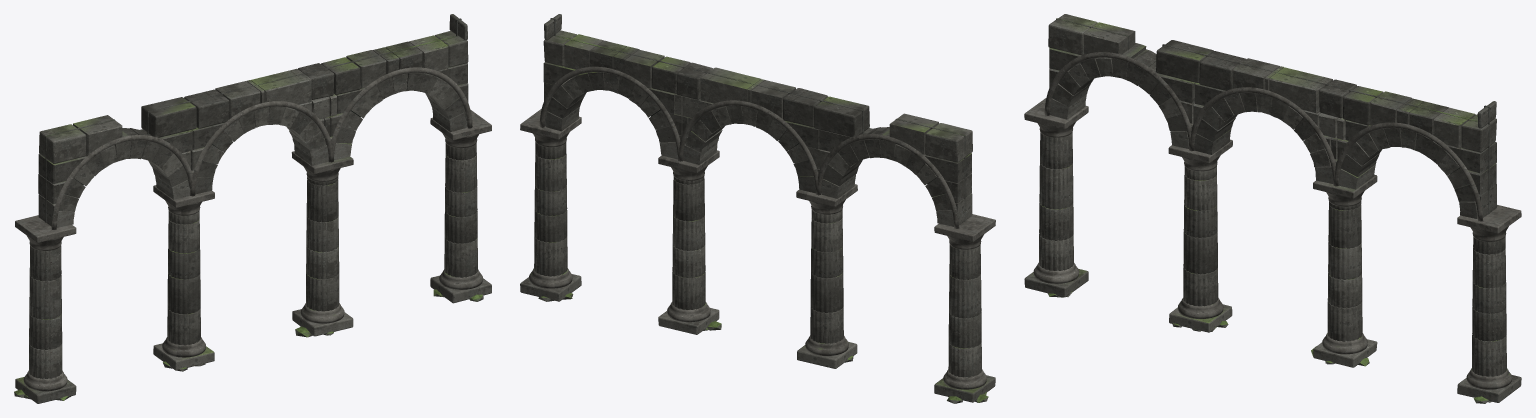
File: ER_Arcade_Colonnes_Cannelees_3Travees.gltf
The picture shows the model from 3 angles, left to right: view 1: azimuth 30°, elevation 25°; view 2: azimuth 150°, elevation 25°; view 3: azimuth 330°, elevation 25°; orthographic projection. The views are drawn at different scales.
Visible parts, largest first — view 1: ER_Arcade_Colonnes_Cannelees_3Travees_P.001, ER_Arcade_Colonnes_Cannelees_3Travees_MOUL.001, ER_Arcade_Colonnes_Cannelees_3Travees_PS.001, ER_Arcade_Colonnes_Cannelees_3Travees_PM.001; view 2: ER_Arcade_Colonnes_Cannelees_3Travees_P.001, ER_Arcade_Colonnes_Cannelees_3Travees_MOUL.001, ER_Arcade_Colonnes_Cannelees_3Travees_PS.001, ER_Arcade_Colonnes_Cannelees_3Travees_PM.001; view 3: ER_Arcade_Colonnes_Cannelees_3Travees_P.001, ER_Arcade_Colonnes_Cannelees_3Travees_MOUL.001, ER_Arcade_Colonnes_Cannelees_3Travees_PS.001.
Part boxes in pixels (<box>): ER_Arcade_Colonnes_Cannelees_3Travees_P.001: <box>15,14,491,403</box>; ER_Arcade_Colonnes_Cannelees_3Travees_MOUL.001: <box>15,67,491,391</box>; ER_Arcade_Colonnes_Cannelees_3Travees_PS.001: <box>45,18,461,222</box>; ER_Arcade_Colonnes_Cannelees_3Travees_PM.001: <box>14,289,483,400</box>; ER_Arcade_Colonnes_Cannelees_3Travees_P.001: <box>520,14,995,402</box>; ER_Arcade_Colonnes_Cannelees_3Travees_MOUL.001: <box>520,66,995,389</box>; ER_Arcade_Colonnes_Cannelees_3Travees_PS.001: <box>550,18,965,221</box>; ER_Arcade_Colonnes_Cannelees_3Travees_PM.001: <box>538,293,988,403</box>; ER_Arcade_Colonnes_Cannelees_3Travees_P.001: <box>1024,14,1521,402</box>; ER_Arcade_Colonnes_Cannelees_3Travees_MOUL.001: <box>1024,52,1521,389</box>; ER_Arcade_Colonnes_Cannelees_3Travees_PS.001: <box>1056,18,1489,214</box>.
Bounding box in the file's own units: 12.01 × 6.85 × 1.34.
5 materials, 4 textured.
